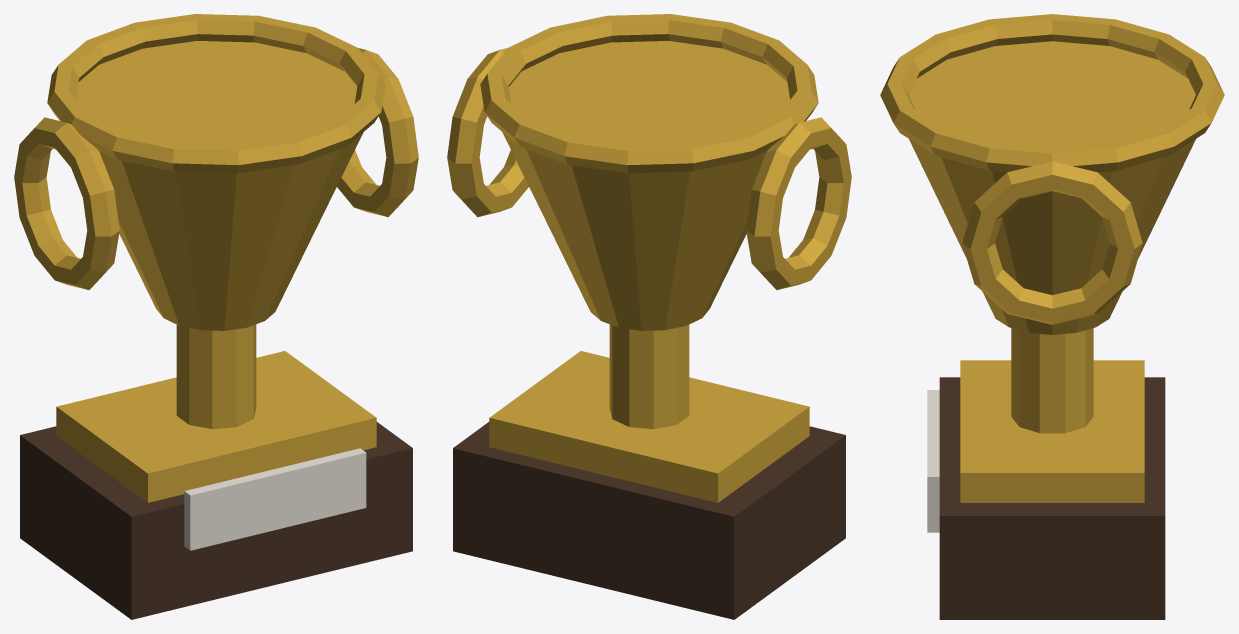
Rendered from trophy.glb.
3 views of the same model, side by side, from view 1: azimuth 30°, elevation 25°; view 2: azimuth 150°, elevation 25°; view 3: azimuth 270°, elevation 25° (orthographic).
Parts seen in each view (by area): view 1: trophy; view 2: trophy; view 3: trophy.
Boxes of the visible parts, bbox=[...] form: trophy: bbox=[14, 14, 418, 619]; trophy: bbox=[447, 14, 851, 619]; trophy: bbox=[880, 14, 1224, 619].
Bounding box in the file's own units: 0.1839 × 0.2511 × 0.168.
